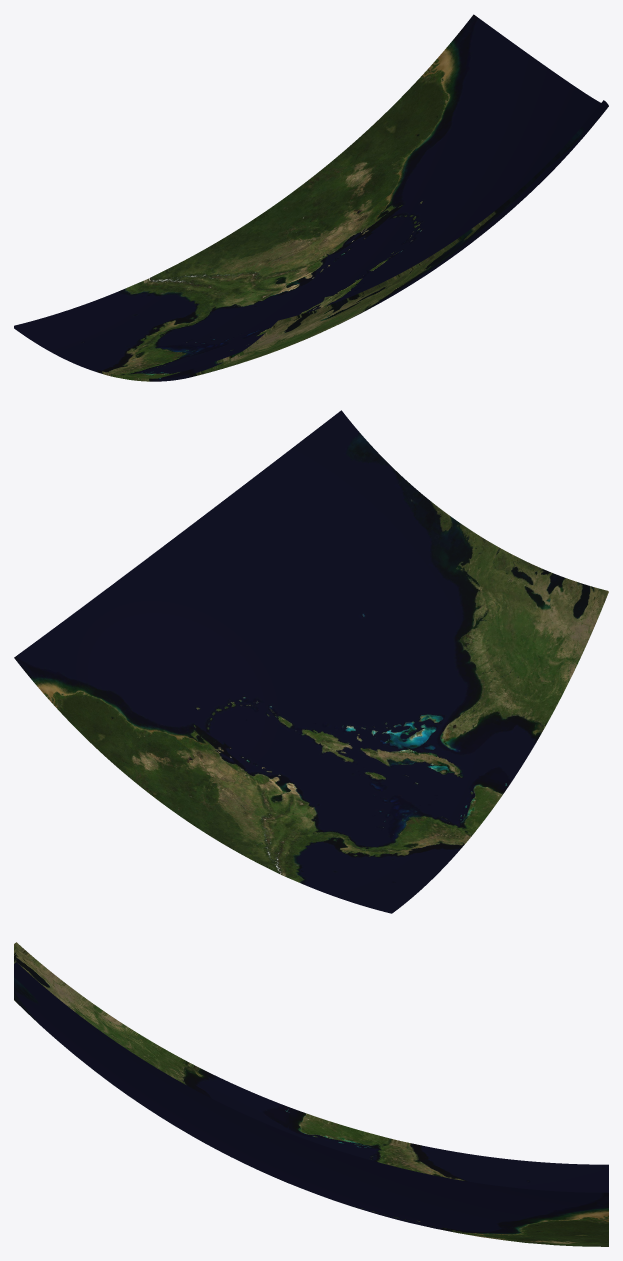
The picture shows the model from 3 angles, top to bottom: view 1: azimuth 30°, elevation 25°; view 2: azimuth 150°, elevation 25°; view 3: azimuth 270°, elevation 25°; orthographic projection. The views are drawn at different scales.
Parts seen in each view (by area): view 1: DefaultName.006, DefaultName.003, DefaultName.009, DefaultName.012; view 2: DefaultName.009, DefaultName.006, DefaultName.012, DefaultName.003; view 3: DefaultName.006, DefaultName.009, DefaultName.003, DefaultName.012.
Boxes of the visible parts, x1,y1,x2,y2 form: DefaultName.006: (263,14,581,274); DefaultName.003: (14,213,387,381); DefaultName.009: (387,91,608,275); DefaultName.012: (157,241,455,381); DefaultName.009: (161,410,463,698); DefaultName.006: (14,548,319,820); DefaultName.012: (320,526,608,785); DefaultName.003: (187,699,508,913); DefaultName.006: (287,1133,608,1246); DefaultName.009: (14,962,288,1182); DefaultName.003: (287,1107,608,1192); DefaultName.012: (14,942,288,1131).
Size of the model in its own units: 45100 by 31962 by 44879.
Materials: 4 (4 with a texture image).
